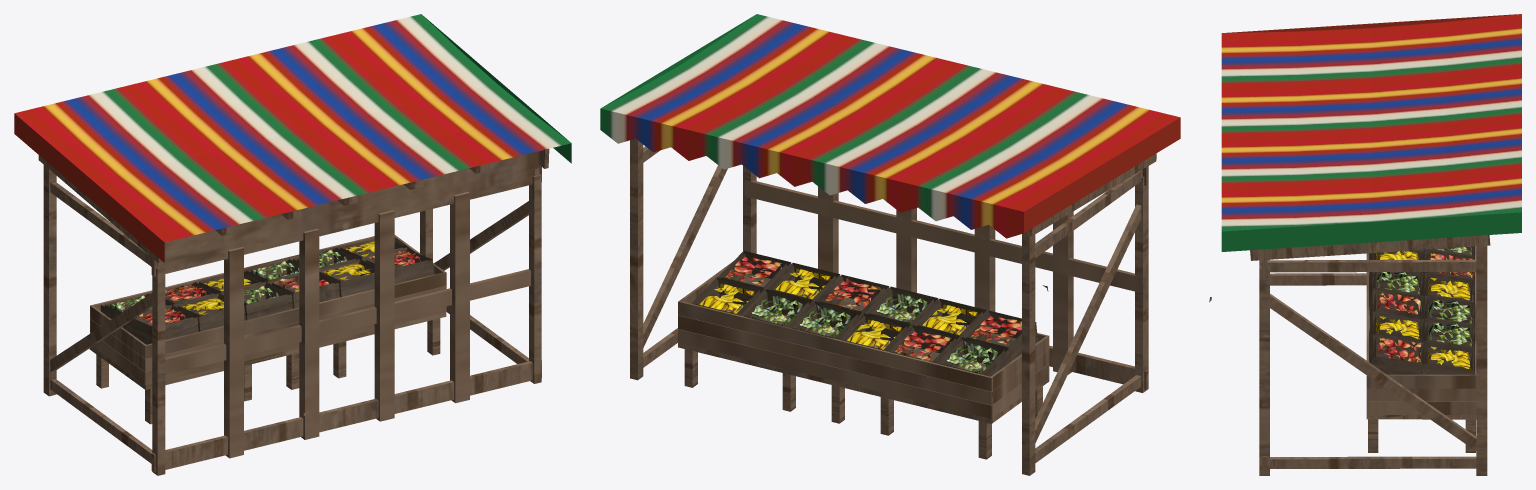
Rendered from vendor-stall.glb.
3 views of the same model, side by side, from view 1: azimuth 30°, elevation 25°; view 2: azimuth 150°, elevation 25°; view 3: azimuth 270°, elevation 25° (orthographic). The views are drawn at different scales.
Parts seen in each view (by area): view 1: stall; view 2: stall; view 3: stall.
Part boxes in pixels (x1=…): stall: x1=14, y1=14, x2=571, y2=475; stall: x1=600, y1=14, x2=1180, y2=475; stall: x1=1209, y1=14, x2=1521, y2=475.
Size of the model in its own units: 3.72 by 2.35 by 2.48.
Materials: 1 (1 with a texture image).
